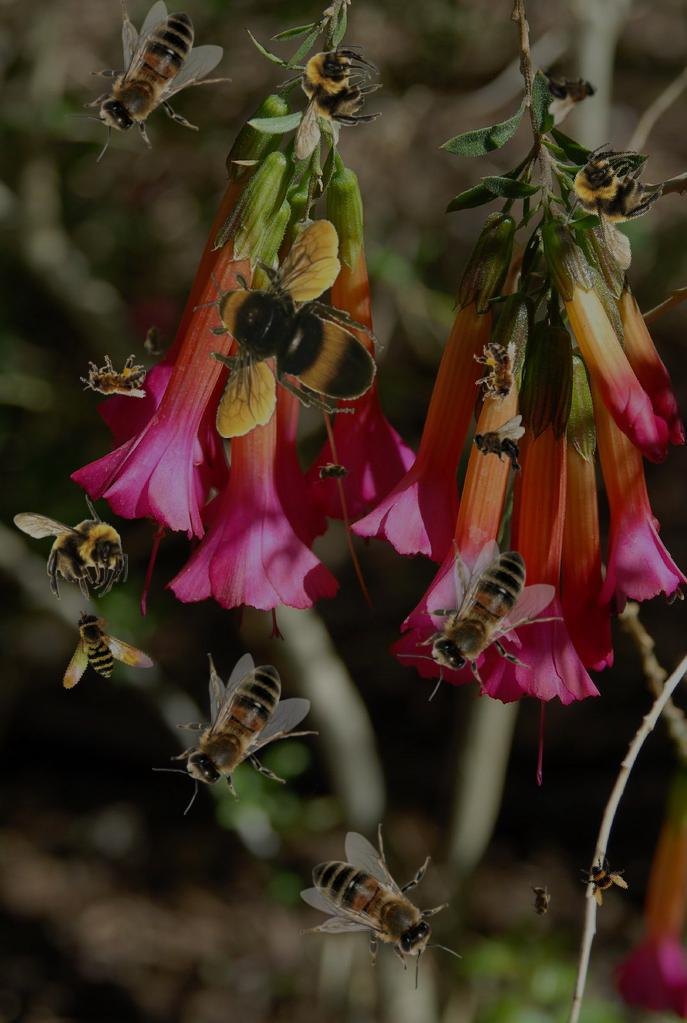Bee: (193, 218, 384, 438), (300, 823, 462, 990), (65, 0, 232, 162), (397, 539, 564, 701), (152, 653, 319, 815), (538, 128, 687, 285), (13, 494, 128, 601), (276, 45, 383, 160), (54, 606, 164, 714), (535, 53, 604, 127), (470, 339, 524, 412), (573, 848, 635, 910), (78, 352, 148, 403), (472, 415, 525, 477), (529, 882, 551, 922), (314, 462, 354, 484), (144, 320, 166, 360)
